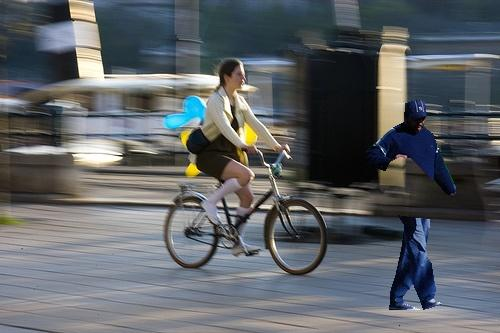tampered: (367, 101, 456, 310)
